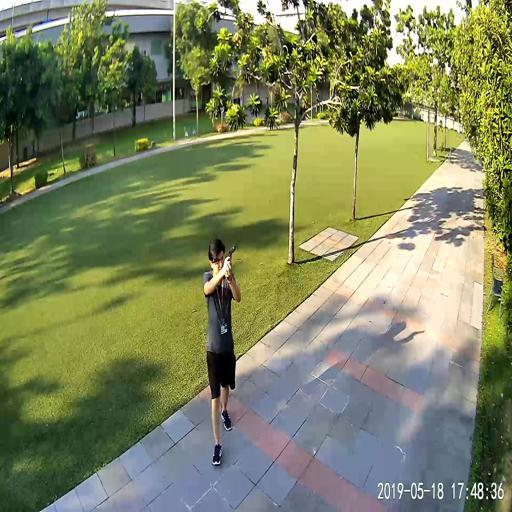Handgun: (223, 243, 234, 259)
